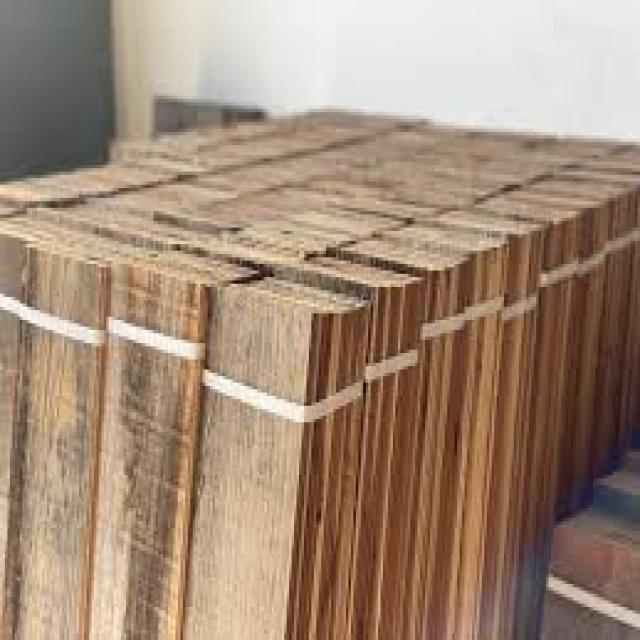Woods: (0, 112, 640, 640)
